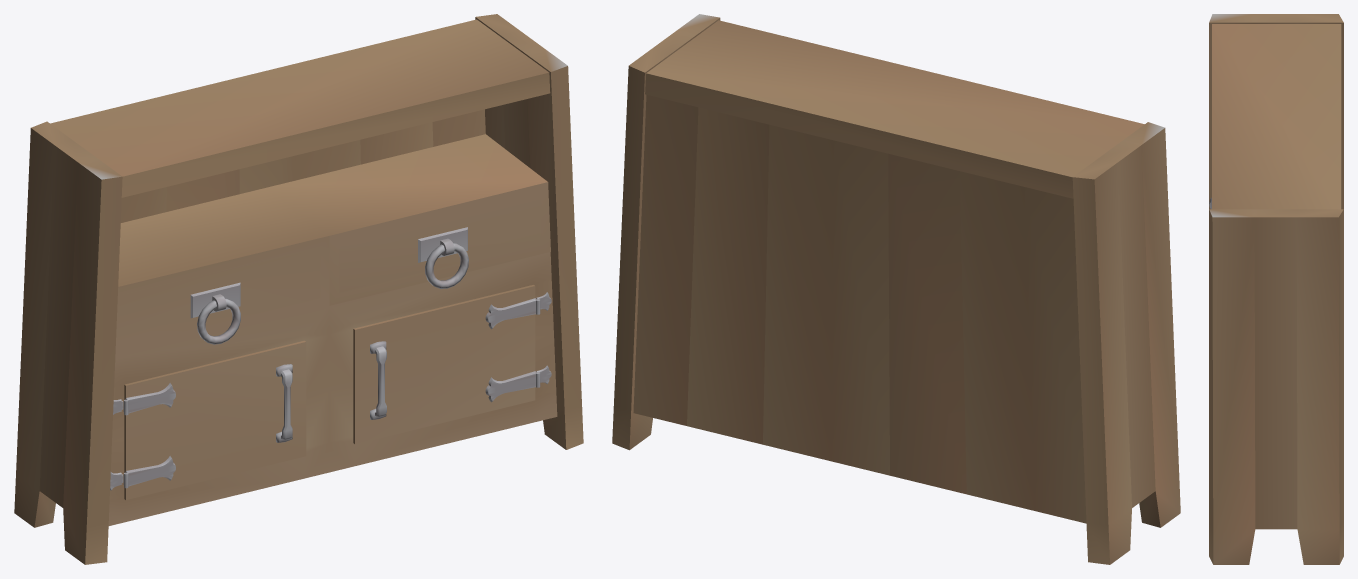
File: Cabinet.glb
The picture shows the model from 3 angles, left to right: view 1: azimuth 30°, elevation 25°; view 2: azimuth 150°, elevation 25°; view 3: azimuth 270°, elevation 25°; orthographic projection. The views are drawn at different scales.
Parts seen in each view (by area): view 1: Cabinet_e4e2a2, Cabinet_02ebae; view 2: Cabinet_e4e2a2; view 3: Cabinet_e4e2a2.
Part boxes in pixels (box(x1,y1,x2,y2)): Cabinet_e4e2a2: box(14, 14, 583, 564); Cabinet_02ebae: box(110, 227, 551, 490); Cabinet_e4e2a2: box(612, 14, 1180, 564); Cabinet_e4e2a2: box(1209, 14, 1343, 564).
Size of the model in its own units: 1.36 by 0.9974 by 0.3571.
